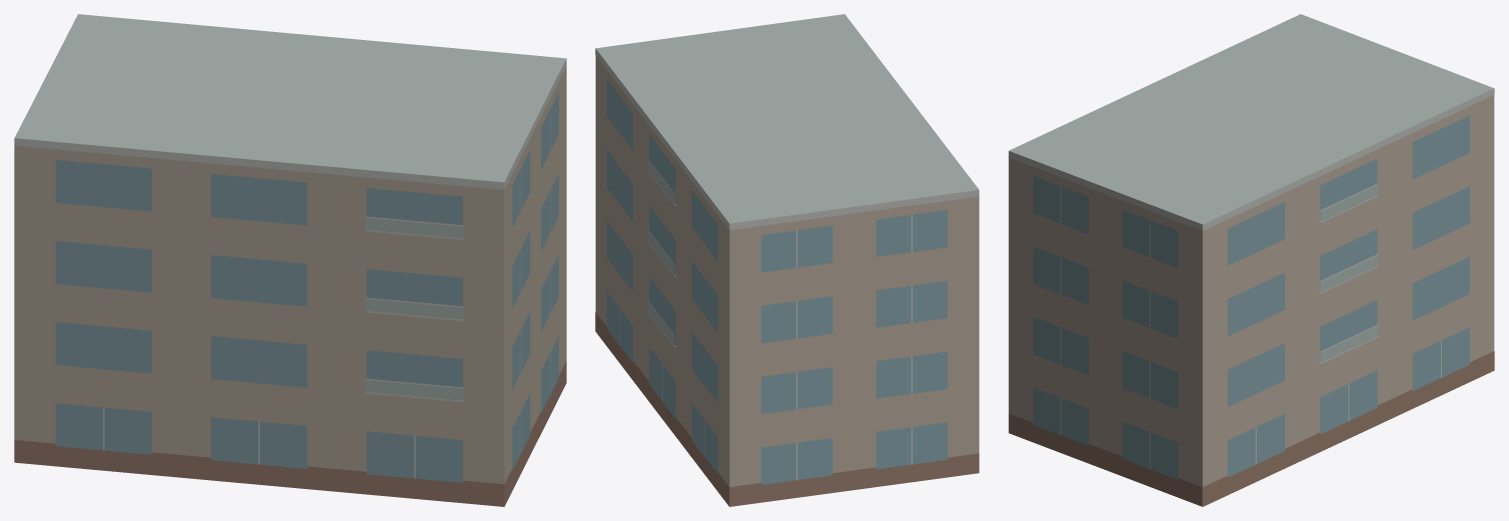
Rendered from survey-upis-32524441.glb.
The picture shows the model from 3 angles, left to right: view 1: azimuth 30°, elevation 25°; view 2: azimuth 150°, elevation 25°; view 3: azimuth 270°, elevation 25°; orthographic projection. The views are drawn at different scales.
Parts seen in each view (by area): view 1: survey-upis-32524441.tmp; view 2: survey-upis-32524441.tmp; view 3: survey-upis-32524441.tmp.
Boxes of the visible parts, x1,y1,x2,y2 form: survey-upis-32524441.tmp: [14, 14, 566, 506]; survey-upis-32524441.tmp: [595, 14, 979, 506]; survey-upis-32524441.tmp: [1008, 14, 1494, 506].
Bounding box in the file's own units: 16.8 × 10.5 × 16.38.
